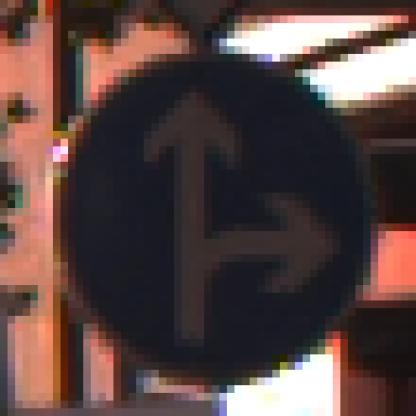Straight or Right: (47, 47, 372, 379)
